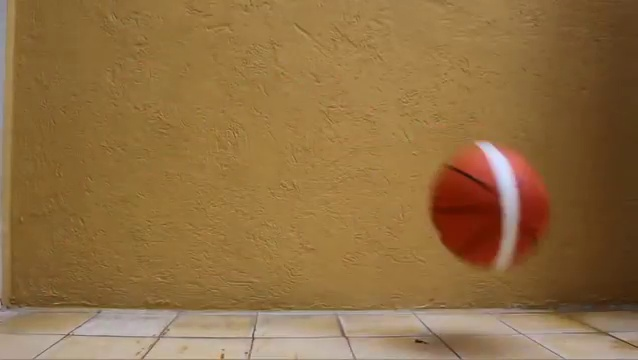ball: (429, 139, 553, 270)
